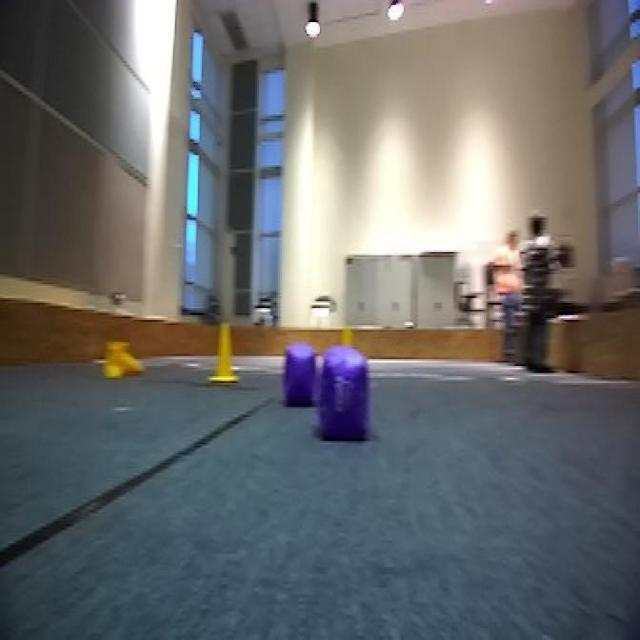frc_cone: (100, 335, 143, 385), (209, 320, 242, 385)
frc_cube: (316, 346, 372, 438), (285, 344, 315, 402)
